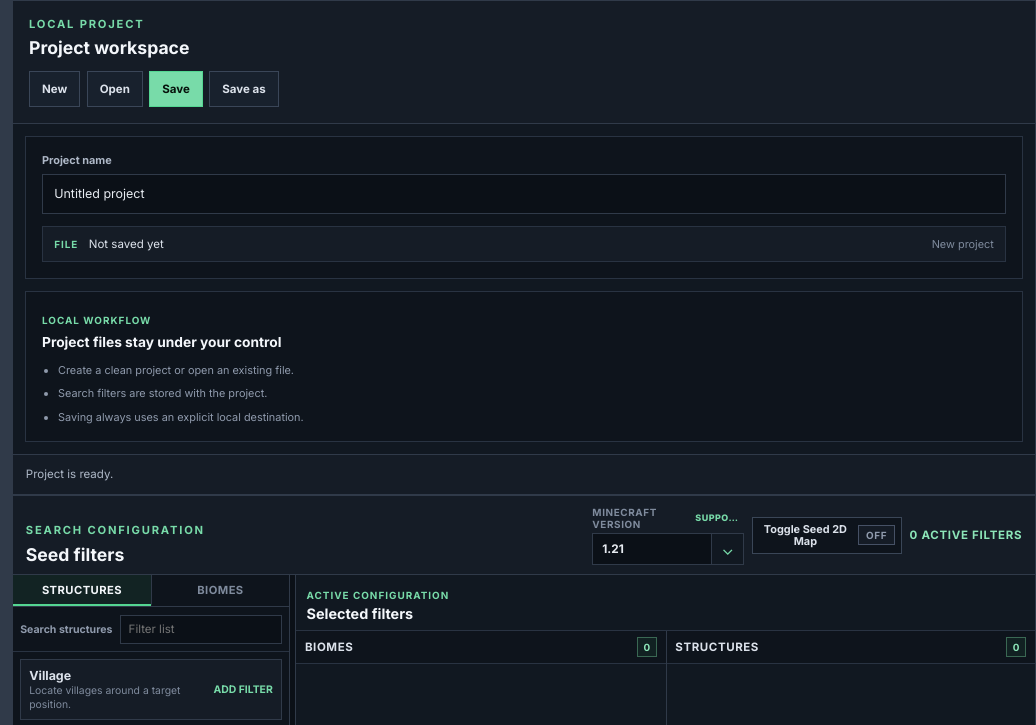
Test: ProjectWorkspace › saves a new project through the save dialog
This screenshot has width=1036, height=725.
Replace the text in the field labelled "Project name" with "Survival world" at (524, 194), box [42,174,1006,214]
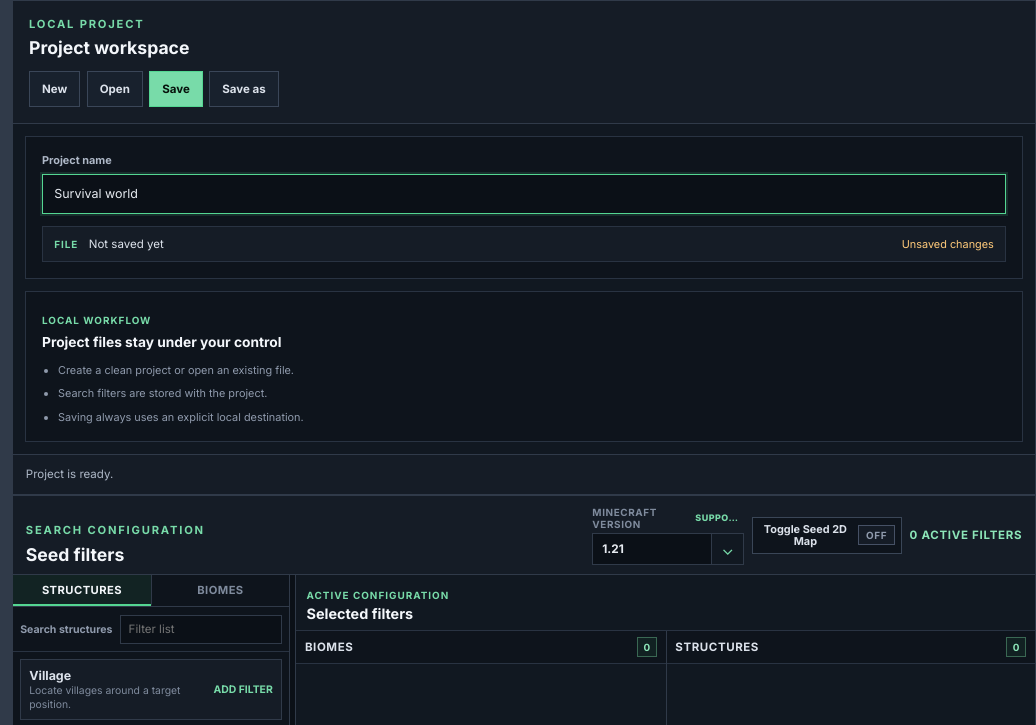
Click the button "Save" at (176, 89), box [149,71,203,107]
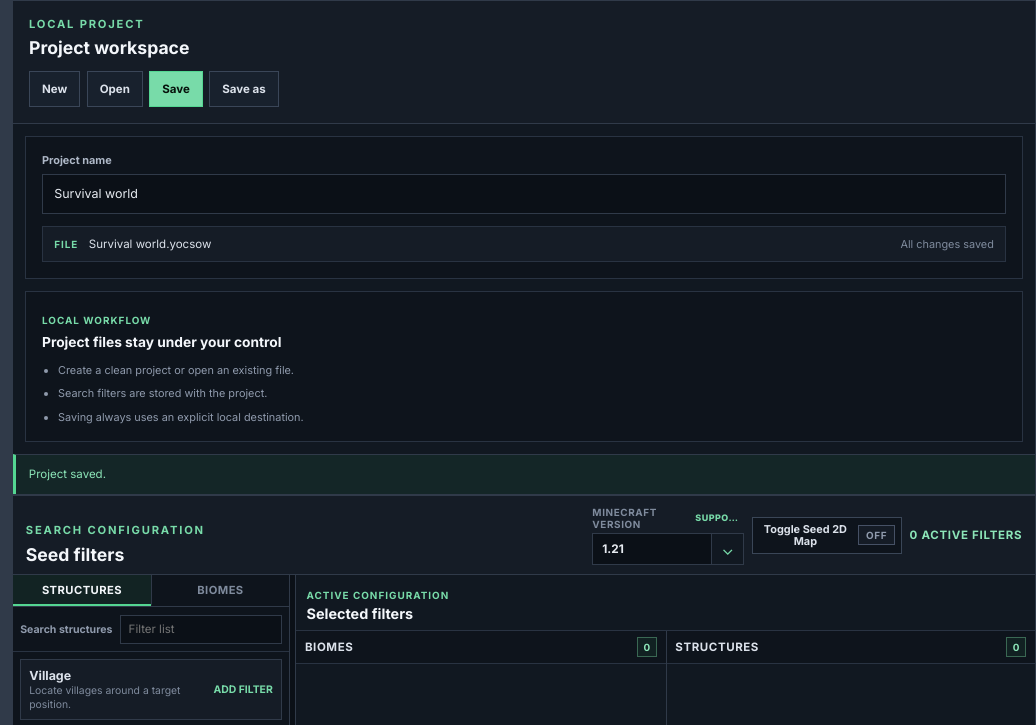
Expected: the text "Project saved." is shown, [29,467,106,481]
Expected: the text "Survival world.yocsow" is shown, [89,237,211,251]
Expected: the text "All changes saved" is shown, [900,237,994,251]
